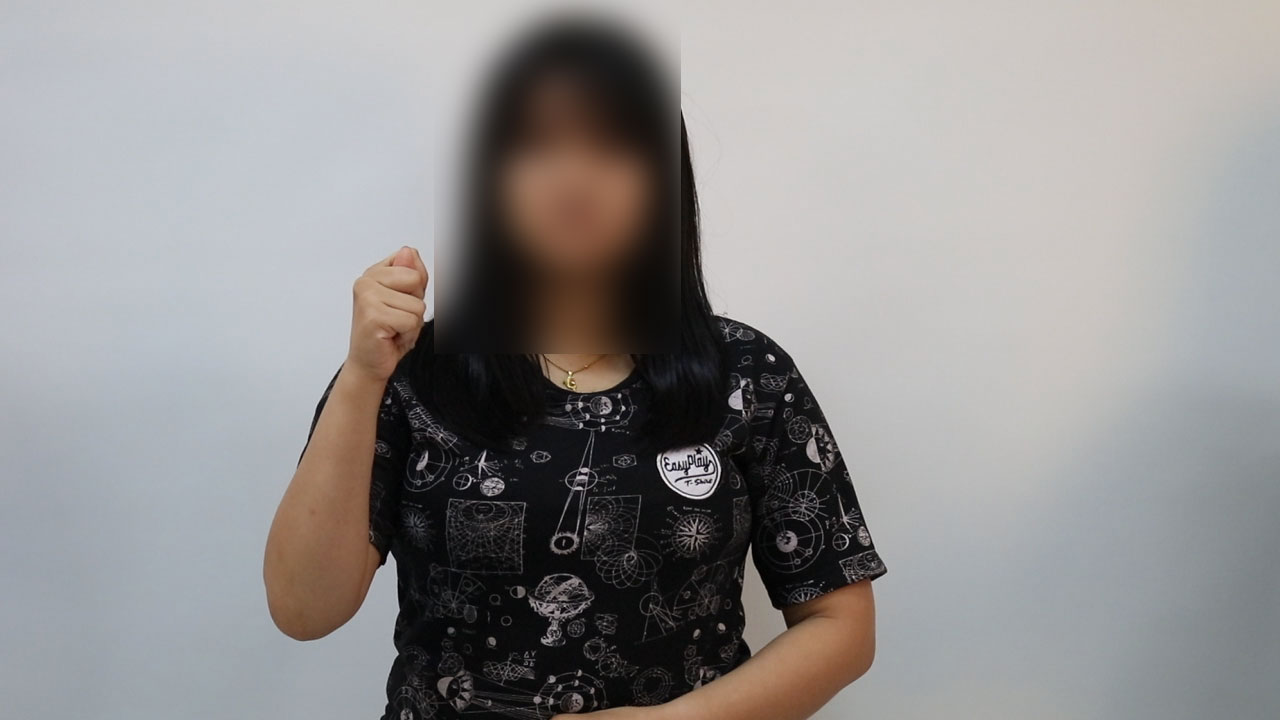tor: (342, 236, 434, 386)
